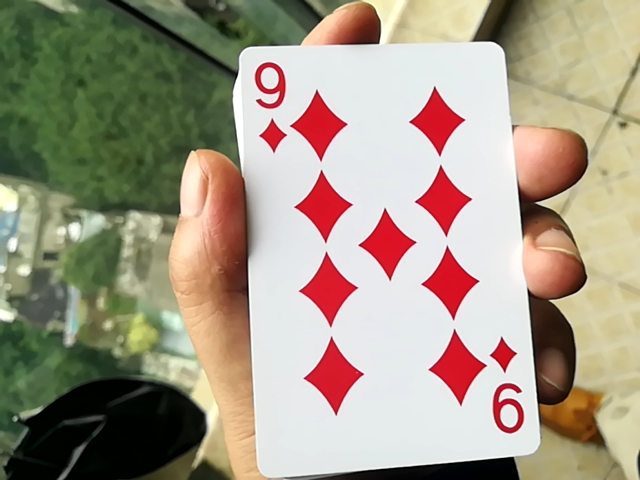fk 9: (218, 24, 535, 472)
